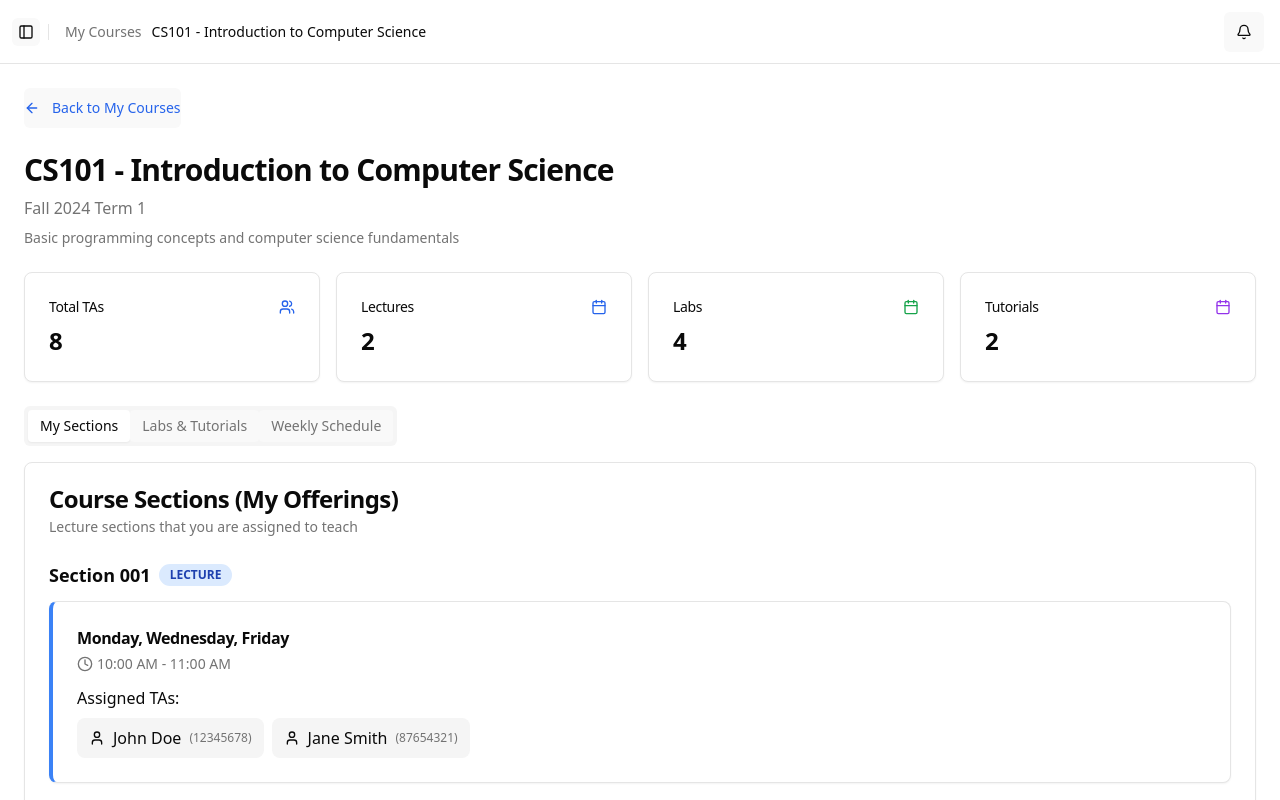
Test: CourseDetails Page › displays shared sessions in Labs & Tutorials tab
Click the tab "Labs & Tutorials".
click(195, 426)  # box [130,410,259,442]
(page scrolled)
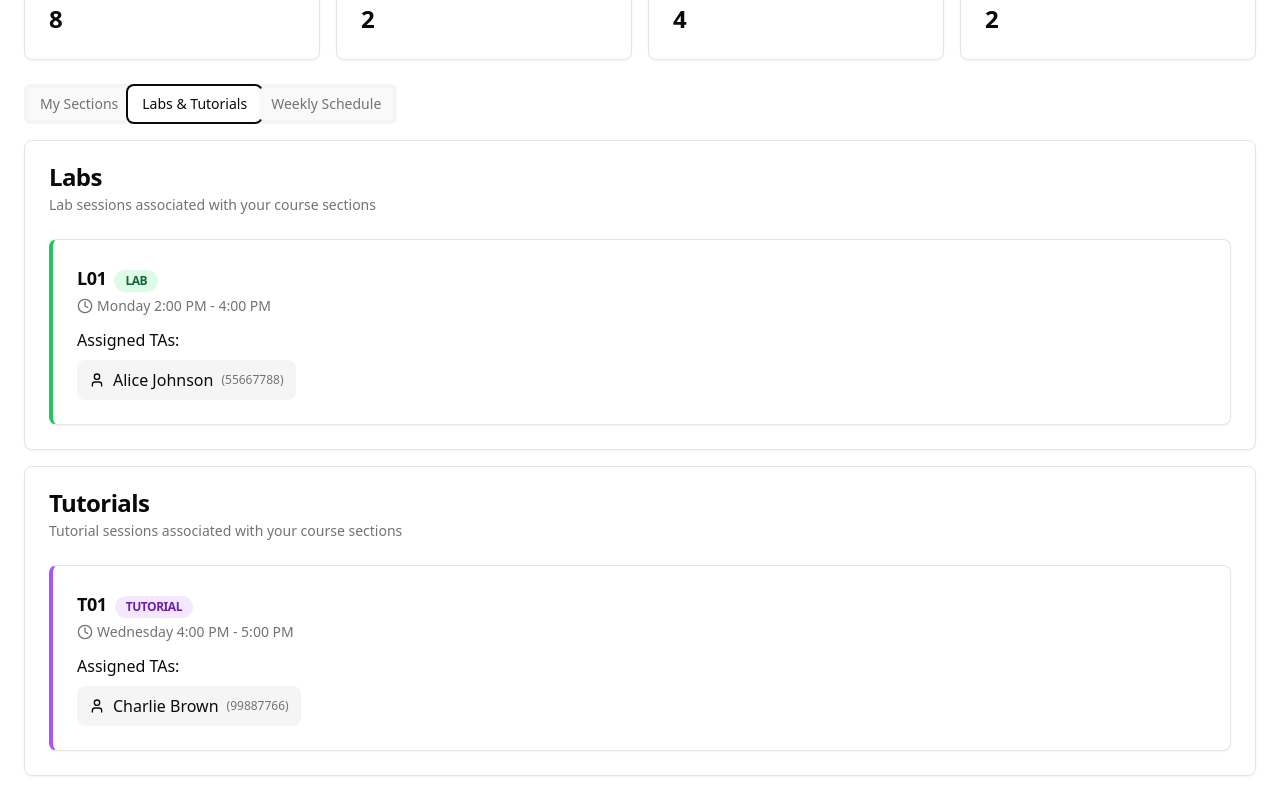
Now the text "L01" is shown, box [77,266,106,290]
Now the text "T01" is shown, box [77,592,107,616]
Now the text "Monday 2:00 PM - 4:00 PM" is shown, box [77,296,271,316]
